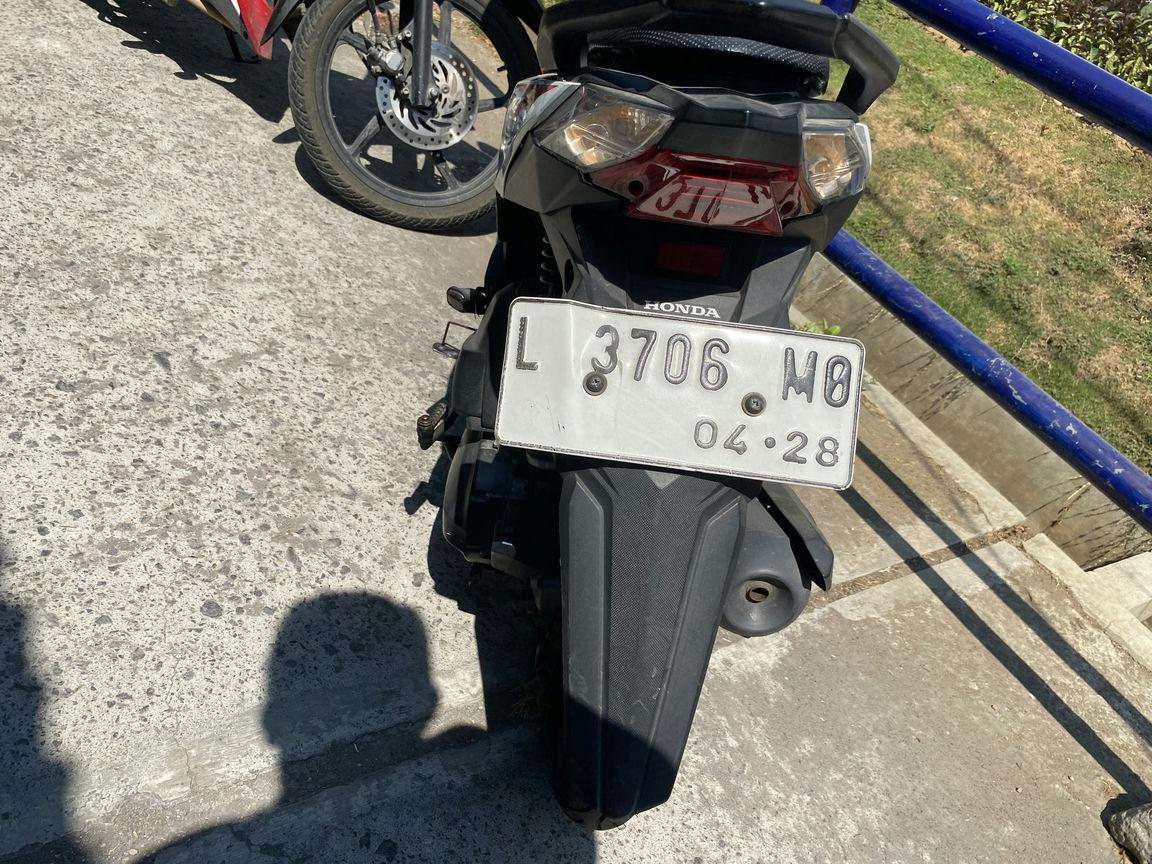plat: (495, 297, 864, 488)
